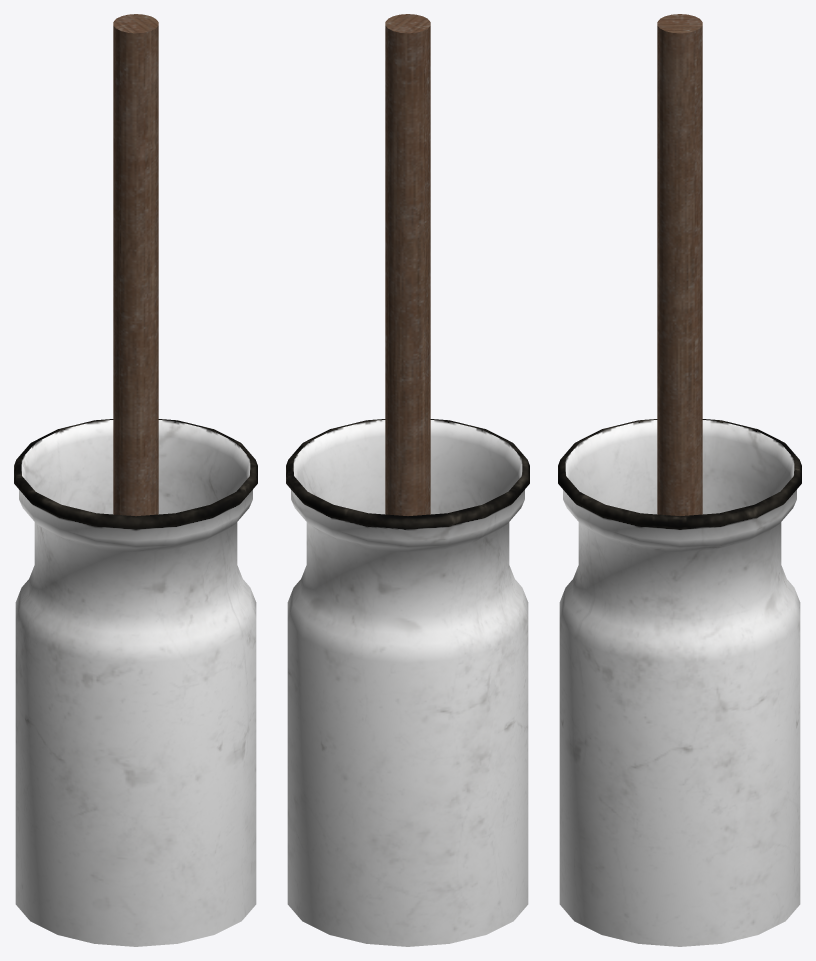
File: Toiletbrush.FBX
3 views of the same model, side by side, from view 1: azimuth 30°, elevation 25°; view 2: azimuth 150°, elevation 25°; view 3: azimuth 270°, elevation 25° (orthographic).
Parts seen in each view (by area): view 1: Toiletbrush; view 2: Toiletbrush; view 3: Toiletbrush.
Part boxes in pixels (x1=…): Toiletbrush: x1=14, y1=14, x2=257, y2=946; Toiletbrush: x1=286, y1=14, x2=529, y2=946; Toiletbrush: x1=558, y1=14, x2=801, y2=946.
Bounding box in the file's own units: 20.6 × 20.28 × 80.
